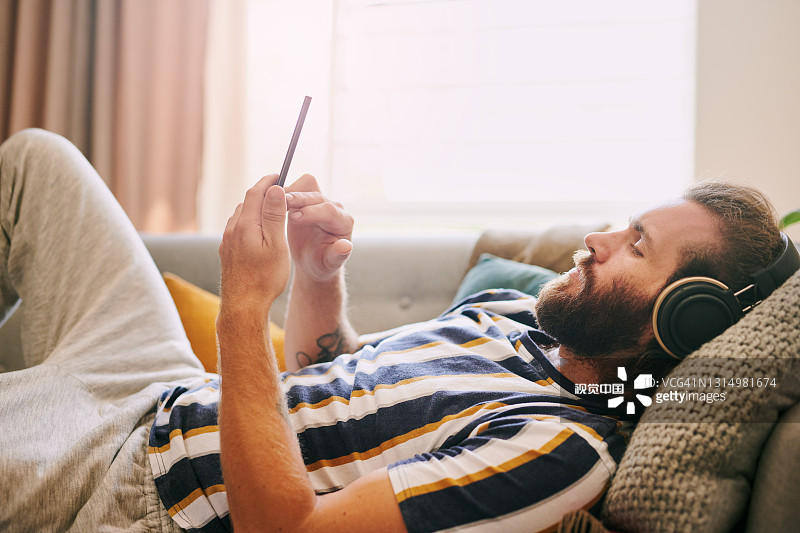reading: (205, 102, 364, 326)
